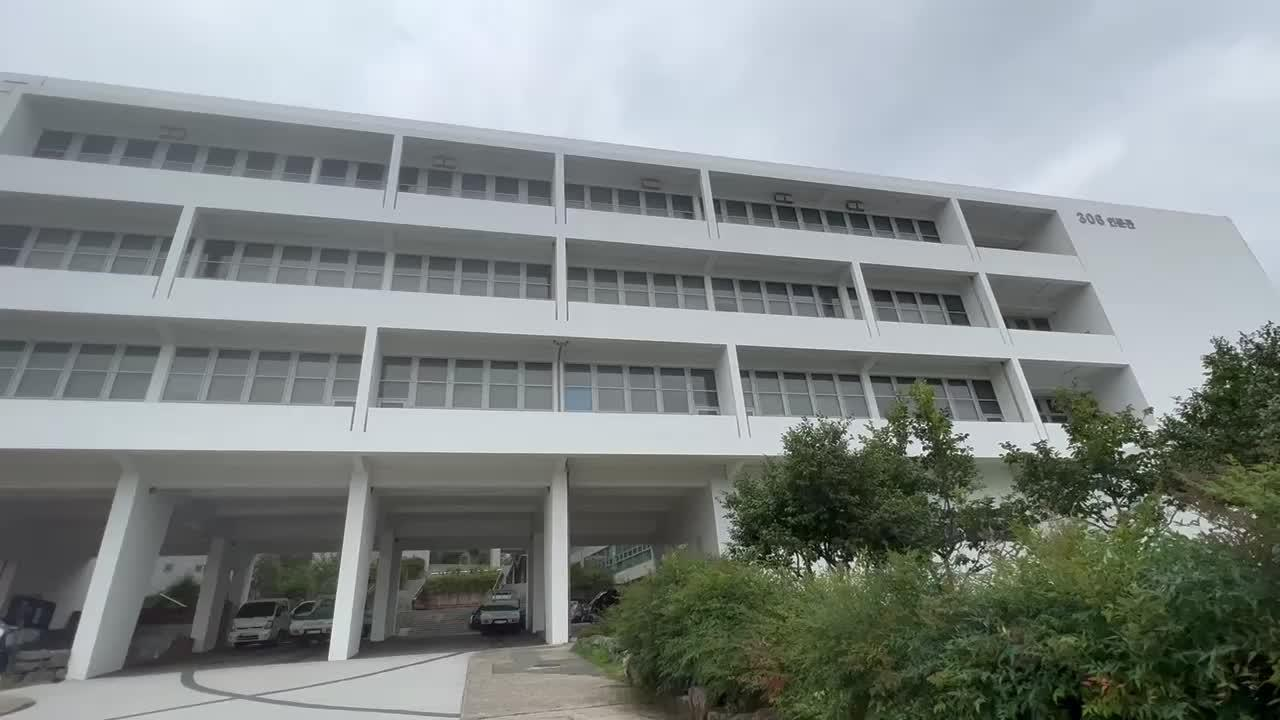building: (18, 66, 727, 466)
